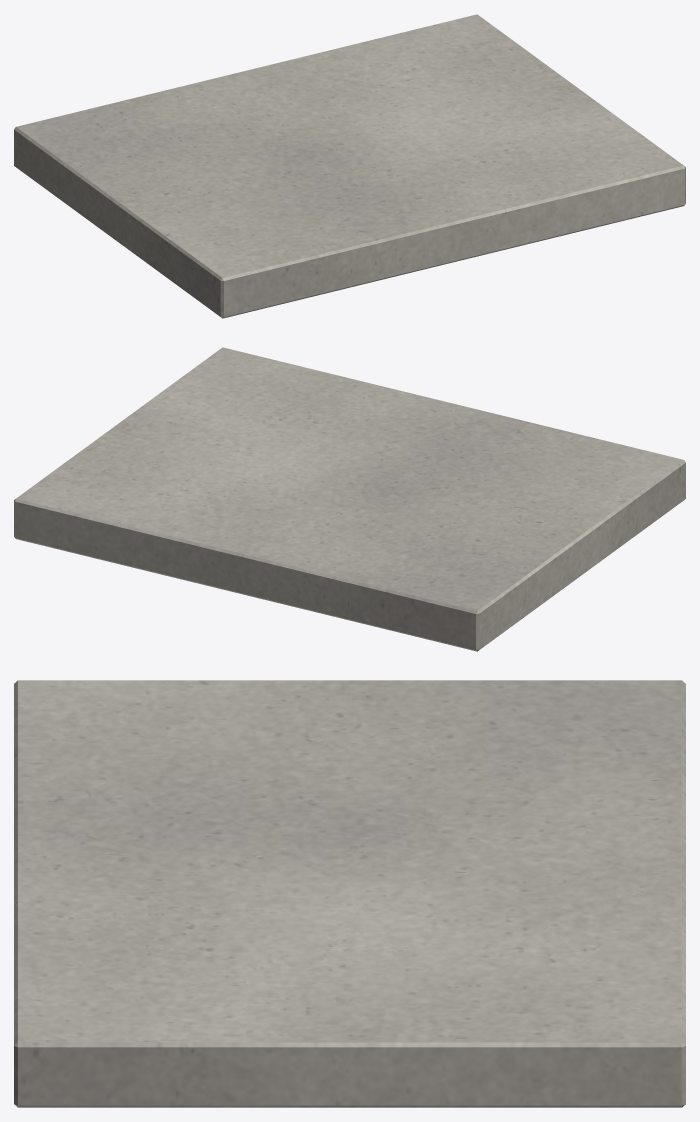
Rendered from exit_pad.glb.
3 renders of one model, top to bottom at view 1: azimuth 30°, elevation 25°; view 2: azimuth 150°, elevation 25°; view 3: azimuth 270°, elevation 25°, orthographic. The views are drawn at different scales.
Parts seen in each view (by area): view 1: exit_pad_concrete; view 2: exit_pad_concrete; view 3: exit_pad_concrete.
Part boxes in pixels (x1,y1,x2,y2): exit_pad_concrete: (14, 14, 685, 318); exit_pad_concrete: (14, 347, 685, 651); exit_pad_concrete: (14, 680, 685, 1107).
Bounding box in the file's own units: 1.8 × 0.15 × 1.4.
1 material, 1 textured.
